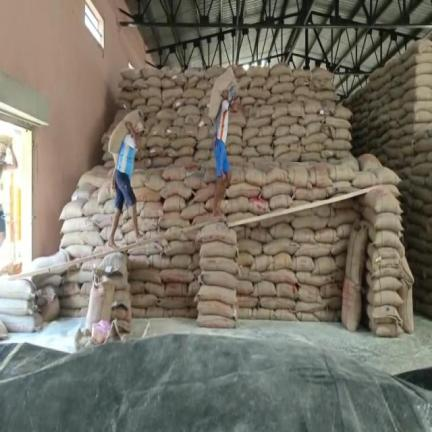Zone-Counting: (109, 110, 144, 247), (209, 67, 237, 215)
